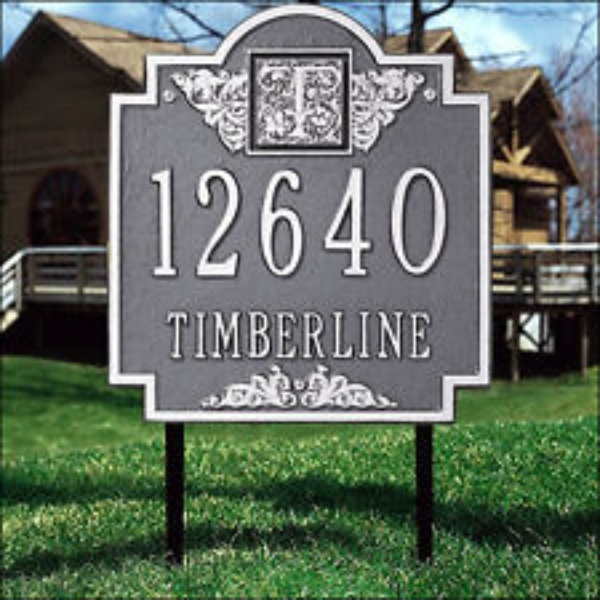text: (433, 166, 449, 281), (161, 166, 176, 281), (177, 166, 192, 281), (193, 166, 208, 281), (209, 166, 224, 281), (225, 166, 240, 281), (241, 166, 256, 281), (257, 166, 272, 281), (273, 166, 288, 281), (289, 166, 304, 281), (305, 166, 320, 281), (321, 166, 336, 281), (337, 166, 352, 281), (353, 166, 368, 281), (369, 166, 384, 281), (385, 166, 400, 281), (401, 166, 416, 281), (417, 166, 432, 281), (147, 166, 160, 281), (417, 310, 433, 361), (177, 310, 192, 361), (193, 310, 208, 361), (209, 310, 224, 361), (225, 310, 240, 361), (241, 310, 256, 361), (257, 310, 272, 361), (273, 310, 288, 361), (289, 310, 304, 361), (305, 310, 320, 361), (321, 310, 336, 361), (337, 310, 352, 361), (353, 310, 368, 361), (369, 310, 384, 361), (385, 310, 400, 361), (401, 310, 416, 361), (166, 310, 176, 361)
